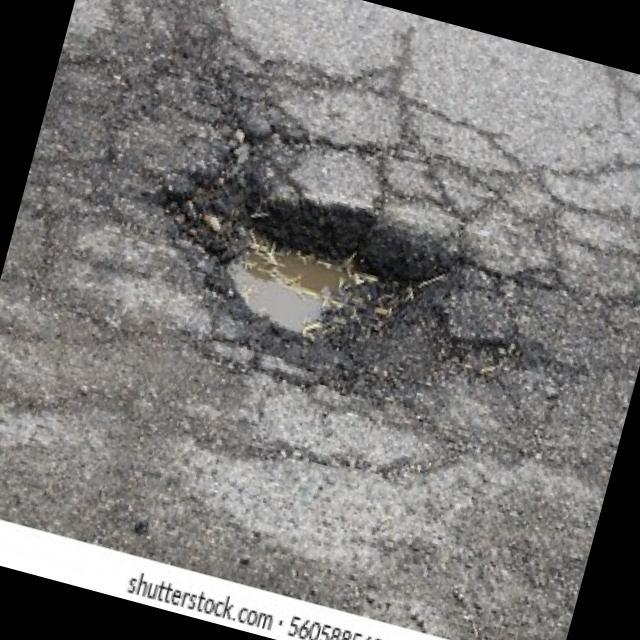Pothole: (124, 150, 464, 410)
